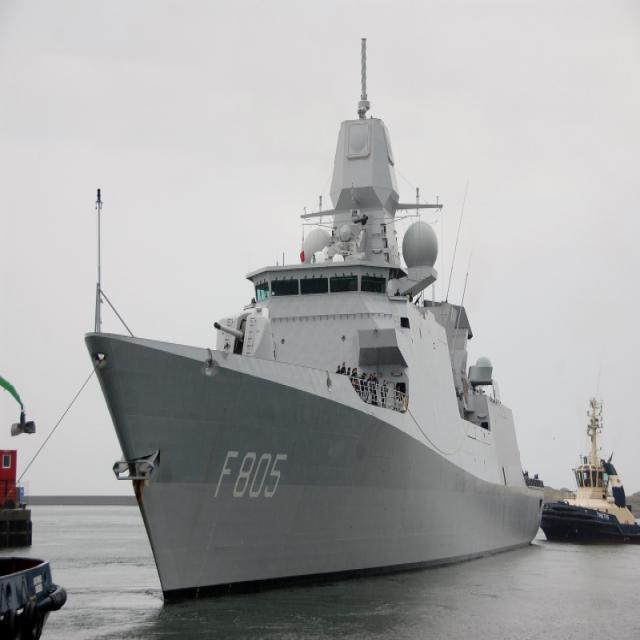Fragata: (86, 32, 551, 610)
